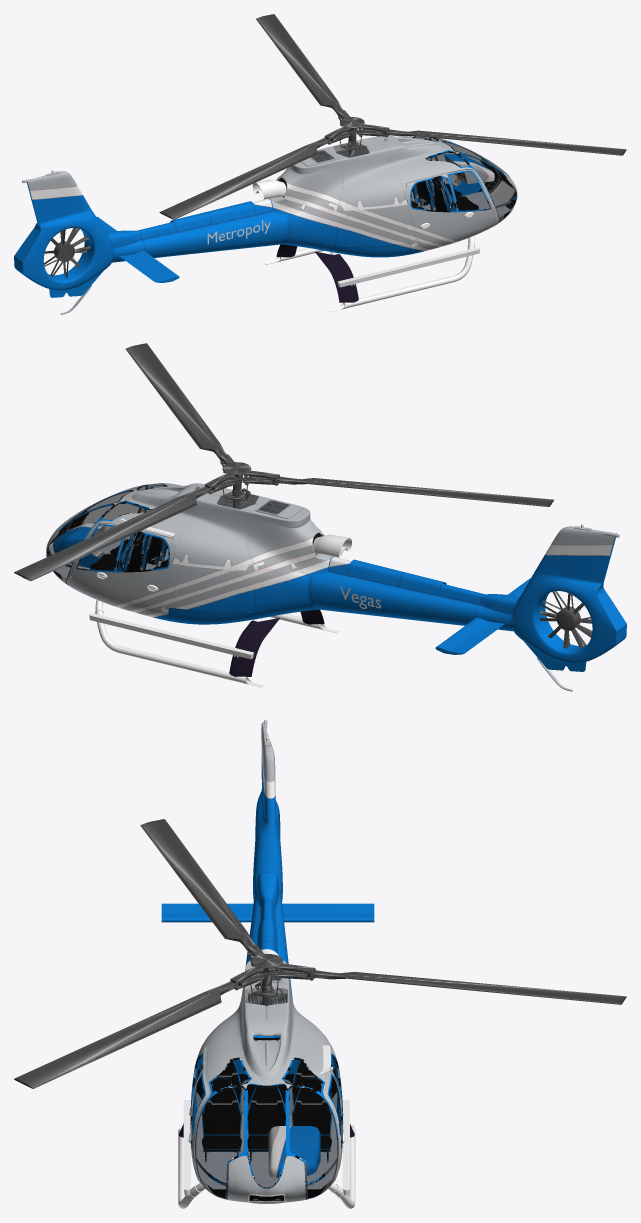
Rendered from helicopter.glb.
The picture shows the model from 3 angles, top to bottom: view 1: azimuth 30°, elevation 25°; view 2: azimuth 150°, elevation 25°; view 3: azimuth 270°, elevation 25°; orthographic projection. The views are drawn at different scales.
Parts seen in each view (by area): view 1: helicopter.Shape_body_0_9, Rotor_anim, helicopter.Shape_glass_0_10, helicopter.Shape_black_0_7, helicopter.Shape_interior_0_8, Tail_rotor_anim; view 2: helicopter.Shape_body_0_9, Rotor_anim, helicopter.Shape_black_0_7, helicopter.Shape_glass_0_10, helicopter.Shape_interior_0_8, Tail_rotor_anim; view 3: helicopter.Shape_body_0_9, helicopter.Shape_glass_0_10, Rotor_anim, helicopter.Shape_interior_0_8, helicopter.Shape_black_0_7.
Boxes of the visible parts, box(x1,y1,x2,y2) form: helicopter.Shape_body_0_9: box(14, 135, 517, 314); Rotor_anim: box(159, 14, 626, 219); helicopter.Shape_glass_0_10: box(412, 136, 516, 221); helicopter.Shape_black_0_7: box(22, 135, 514, 311); helicopter.Shape_interior_0_8: box(411, 177, 478, 210); Tail_rotor_anim: box(44, 228, 90, 278); helicopter.Shape_body_0_9: box(46, 483, 626, 691); Rotor_anim: box(14, 343, 553, 581); helicopter.Shape_black_0_7: box(49, 518, 619, 687); helicopter.Shape_glass_0_10: box(47, 484, 168, 582); helicopter.Shape_interior_0_8: box(90, 532, 168, 570); Tail_rotor_anim: box(539, 591, 592, 648); helicopter.Shape_body_0_9: box(161, 720, 374, 1202); helicopter.Shape_glass_0_10: box(191, 1055, 342, 1203); Rotor_anim: box(14, 819, 626, 1088); helicopter.Shape_interior_0_8: box(202, 1060, 331, 1162); helicopter.Shape_black_0_7: box(178, 736, 355, 1208).
Size of the model in its own units: 417 by 136 by 325.
6 materials, 5 textured.
